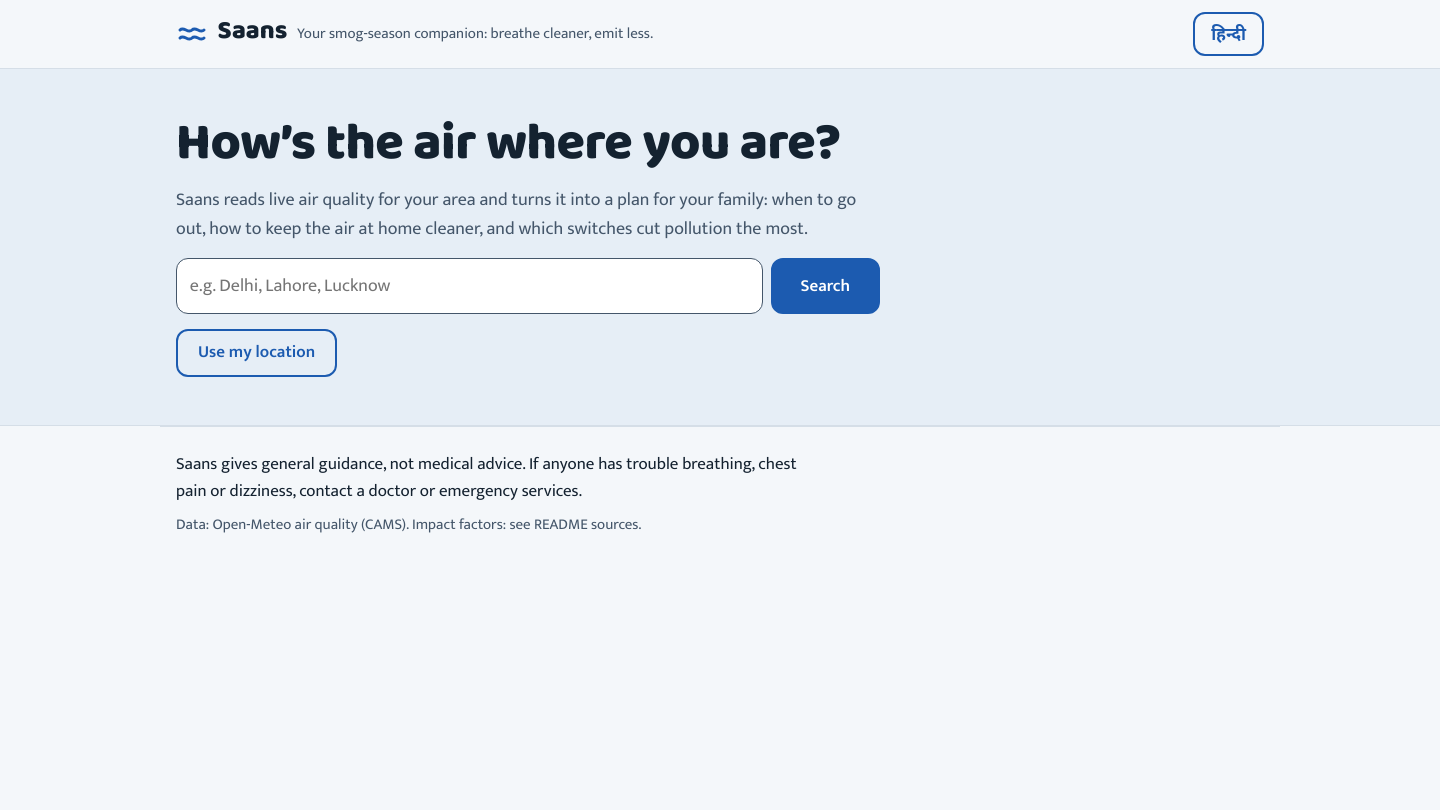
it: App: air, plan and household › says so when a search finds nothing
Type "Zzzz" into the search field at (469, 286), box [176,258,762,314]
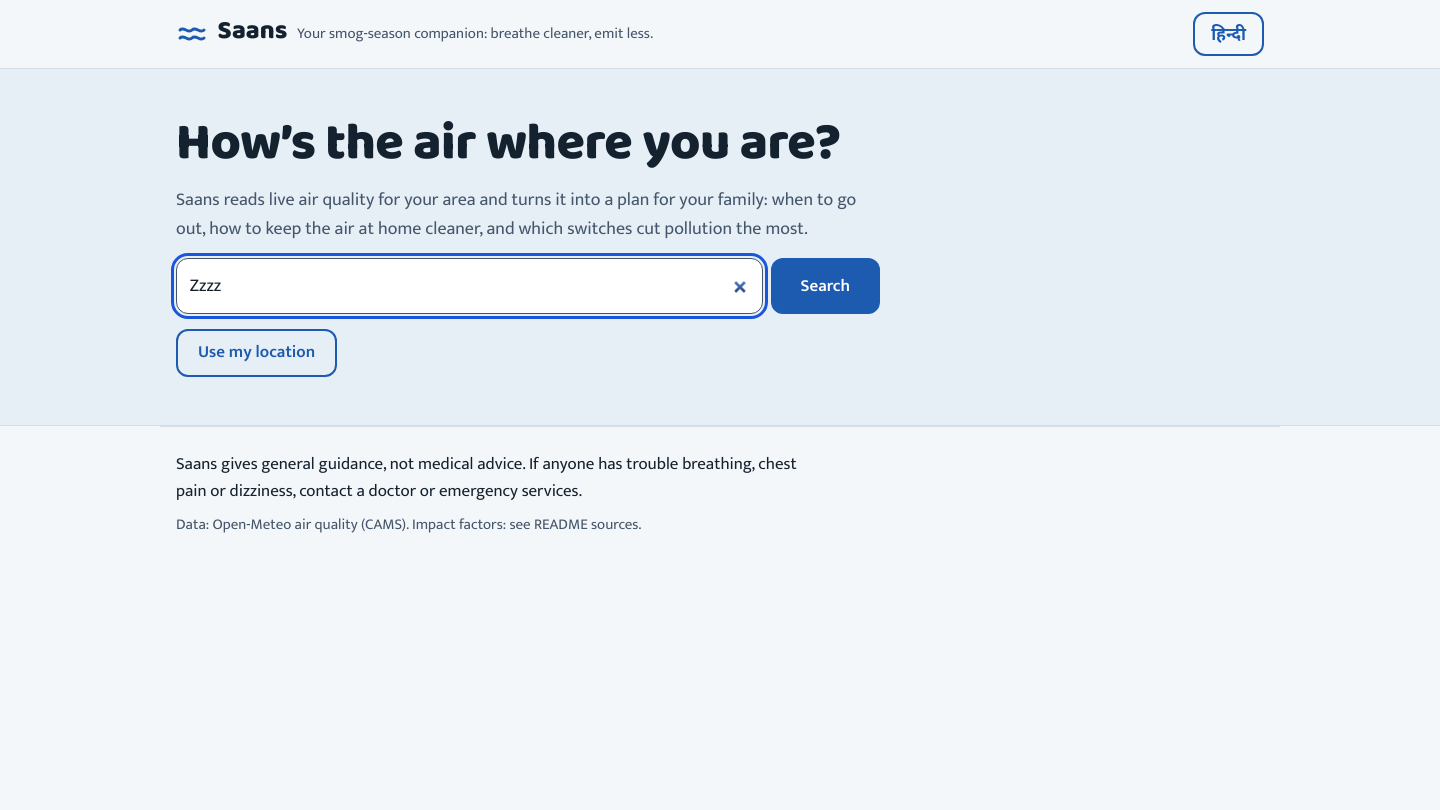
Click the button "Search" at (825, 286), box [770,258,880,314]
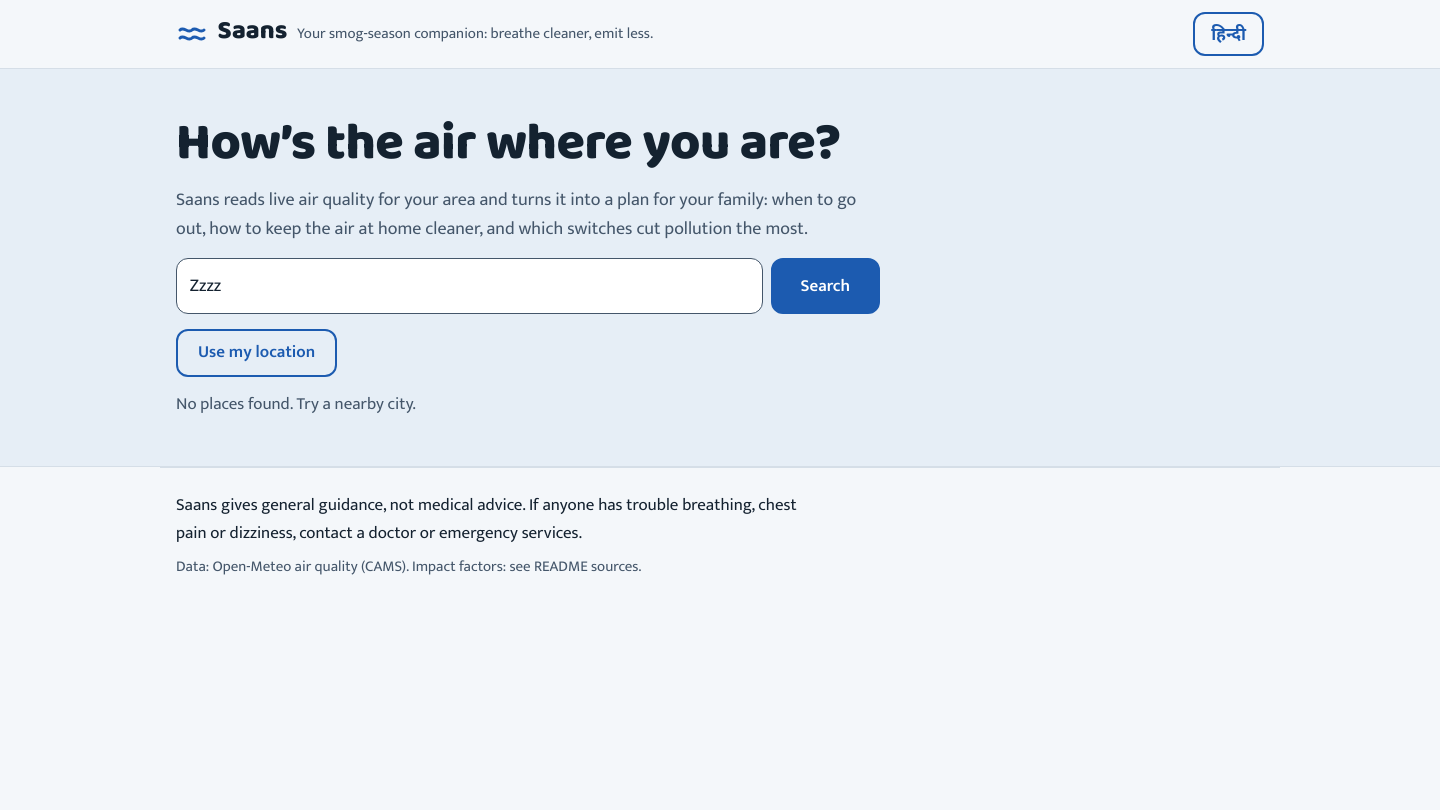
Expected: the text "No places found. Try a nearby city." is shown, [176,391,416,418]
